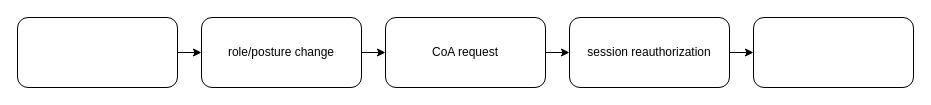
Some shapes in this 931 by 105 pixel diagram are drawn without their labels. The centre of each missing label's shape, as x and y in pixels:
new access: (833,52)
RADIUS accounting session: (97,52)
